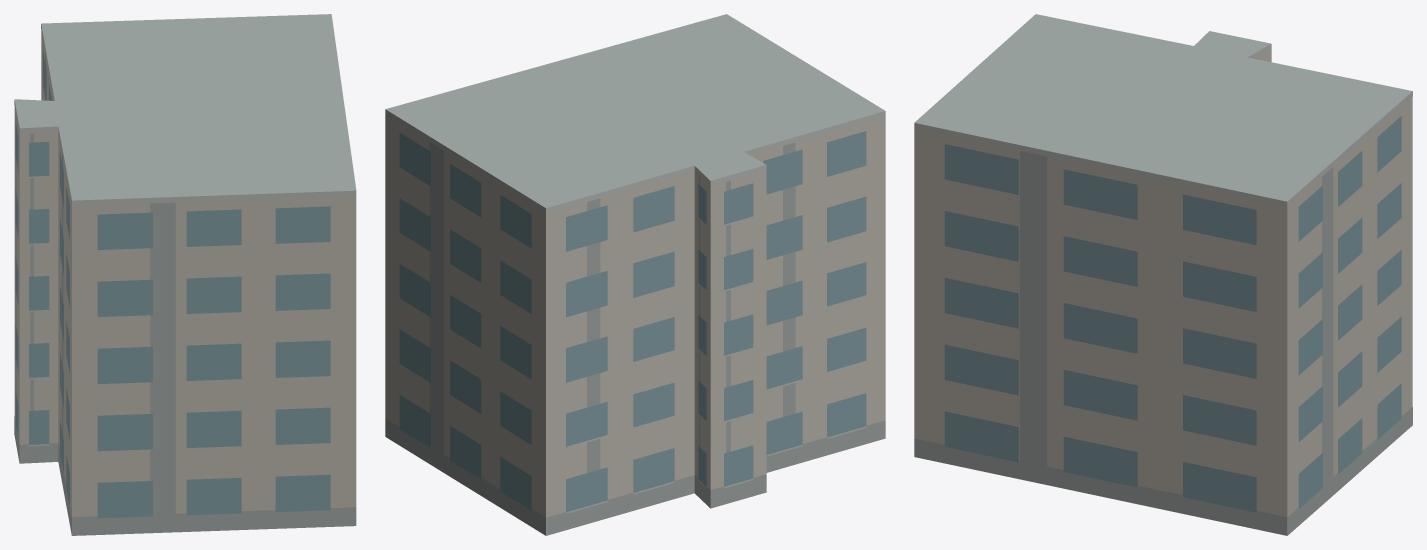
Rendered from survey-upis-32852036.glb.
3 renders of one model, left to right at view 1: azimuth 30°, elevation 25°; view 2: azimuth 150°, elevation 25°; view 3: azimuth 270°, elevation 25°, orthographic. The views are drawn at different scales.
Visible parts, largest first — view 1: survey-upis-32852036.tmp; view 2: survey-upis-32852036.tmp; view 3: survey-upis-32852036.tmp.
Part boxes in pixels (left/top/right/bottom): survey-upis-32852036.tmp: left=14, top=14, right=356, bottom=535; survey-upis-32852036.tmp: left=385, top=14, right=885, bottom=535; survey-upis-32852036.tmp: left=914, top=14, right=1412, bottom=535.
Bounding box in the file's own units: 17.59 × 14.6 × 19.75.
